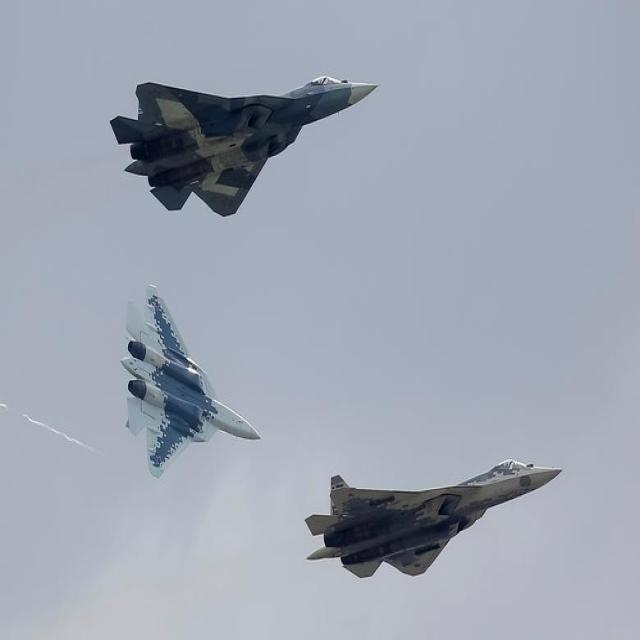MIL_Plane: (109, 74, 380, 218), (303, 458, 563, 579), (118, 282, 262, 479)
